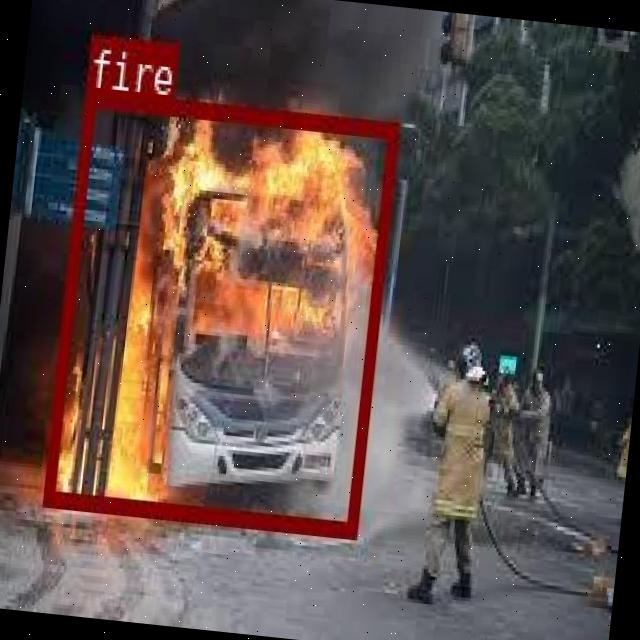fire: (40, 89, 397, 536)
